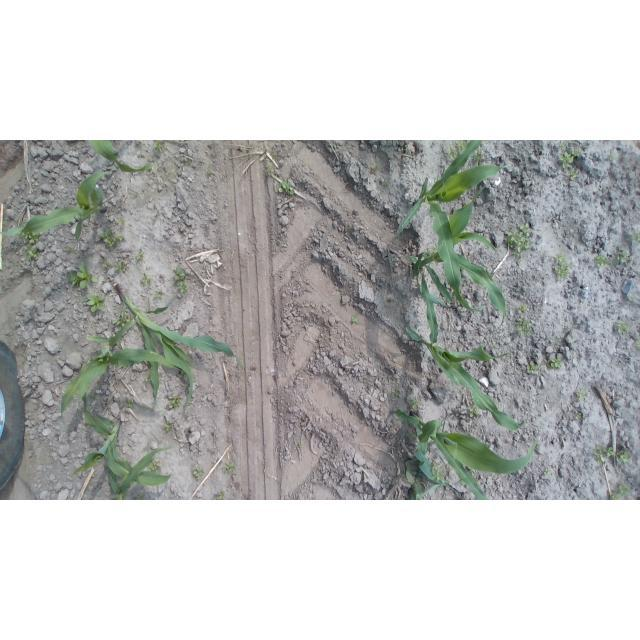Maize: (86, 282, 245, 411), (397, 140, 512, 312), (404, 272, 526, 431), (406, 183, 507, 334), (395, 408, 537, 501), (61, 347, 182, 427), (72, 392, 172, 484), (1, 170, 113, 243), (109, 447, 173, 500), (90, 140, 159, 172), (404, 458, 440, 500)
Weeds: (67, 262, 100, 291), (504, 221, 530, 255), (552, 252, 573, 281), (559, 151, 582, 174), (593, 443, 615, 466), (98, 229, 125, 247), (612, 246, 630, 266), (87, 293, 107, 311), (609, 483, 629, 500), (432, 462, 447, 483), (279, 179, 296, 195), (517, 317, 532, 335), (22, 244, 38, 260), (173, 267, 190, 282), (544, 358, 564, 370), (22, 232, 40, 245), (443, 143, 457, 159), (613, 321, 629, 335), (140, 271, 154, 287), (472, 149, 485, 164), (616, 448, 629, 463), (593, 254, 609, 266), (564, 168, 578, 181), (526, 361, 539, 375), (117, 311, 130, 325), (152, 141, 166, 154), (168, 395, 180, 410), (114, 259, 129, 271), (408, 397, 421, 410), (193, 465, 205, 479), (468, 405, 481, 417), (629, 231, 640, 243), (558, 141, 569, 152), (177, 282, 188, 293), (150, 460, 160, 472), (458, 140, 467, 153), (227, 460, 236, 473), (575, 390, 585, 401), (154, 289, 165, 299), (515, 254, 524, 266), (380, 177, 390, 187), (125, 398, 135, 408), (164, 421, 173, 432), (136, 250, 145, 261), (608, 149, 617, 159), (217, 491, 227, 500), (63, 245, 73, 254), (115, 217, 125, 226), (267, 166, 276, 176), (518, 305, 527, 314), (351, 316, 360, 325), (555, 337, 566, 344), (630, 294, 639, 302), (544, 467, 553, 475), (370, 164, 378, 173), (391, 389, 400, 396), (102, 261, 111, 268), (574, 413, 582, 420), (134, 142, 142, 149), (185, 158, 192, 166), (431, 246, 438, 253), (145, 377, 152, 384), (206, 167, 213, 174), (135, 496, 144, 501), (298, 442, 304, 448), (222, 467, 226, 474), (91, 394, 96, 399), (273, 153, 277, 159)
